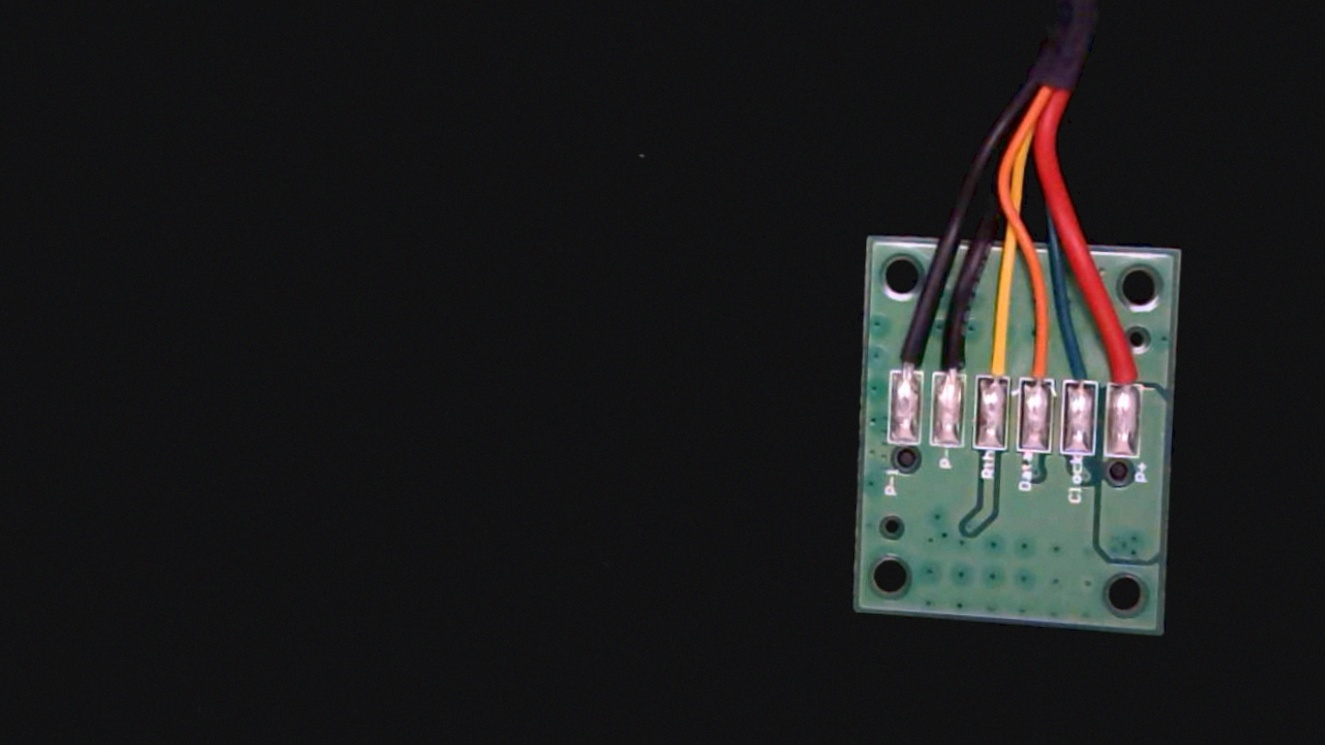Black: (932, 320, 970, 389)
Black1: (889, 318, 927, 388)
Green: (1062, 332, 1103, 399)
Orange: (1021, 326, 1056, 396)
Red: (1106, 330, 1148, 403)
Yellow: (975, 319, 1015, 393)
